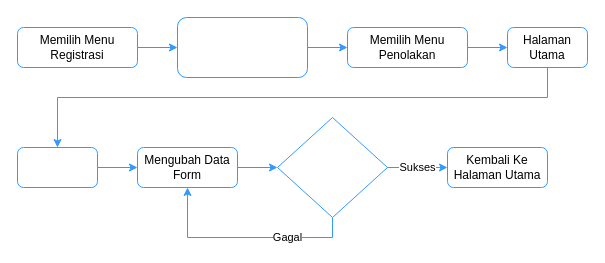
Some shapes in this 605 by 263 pixel diagram are drawn without their labels. Here are the shapes that lost their labels. From the top down, the box of each, then its label:
(176, 16, 308, 78): Memililih Menu Penerimaan dan Penloakan Narapidana/Tahanan
(16, 146, 98, 188): Ubah
(276, 116, 388, 218): Proses Menubah Data
